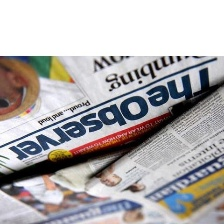news_paper: (0, 54, 224, 179), (77, 83, 224, 224), (0, 145, 179, 224)
